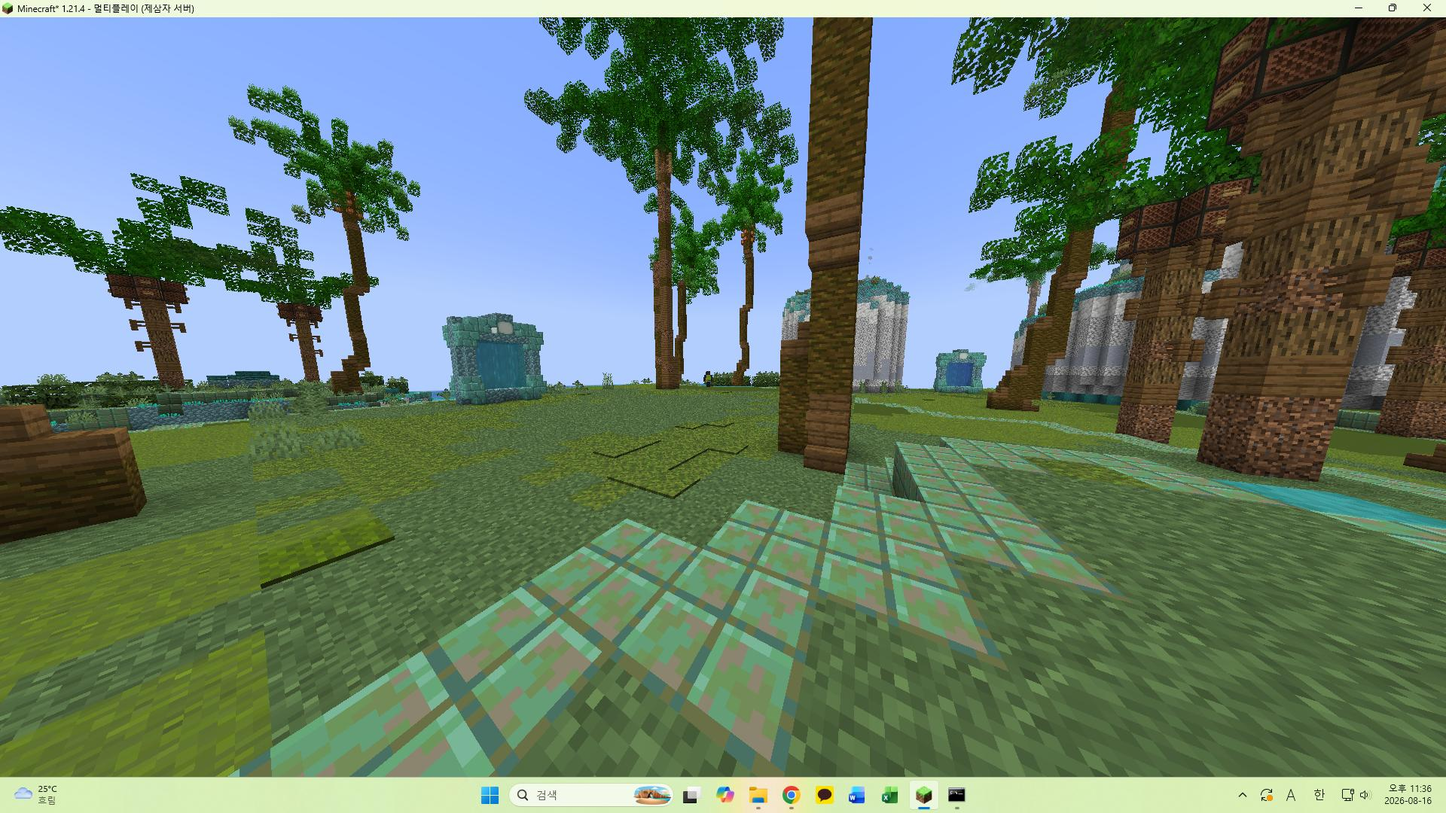Guardian: (704, 371, 713, 386)
